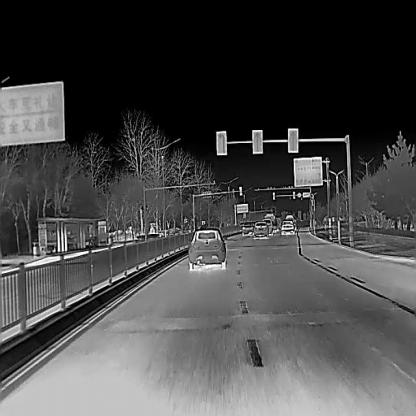car: (187, 228, 226, 270), (253, 219, 268, 238), (280, 218, 295, 235), (242, 220, 254, 236), (262, 217, 272, 234)
truck: (263, 212, 277, 232), (284, 213, 294, 219)
